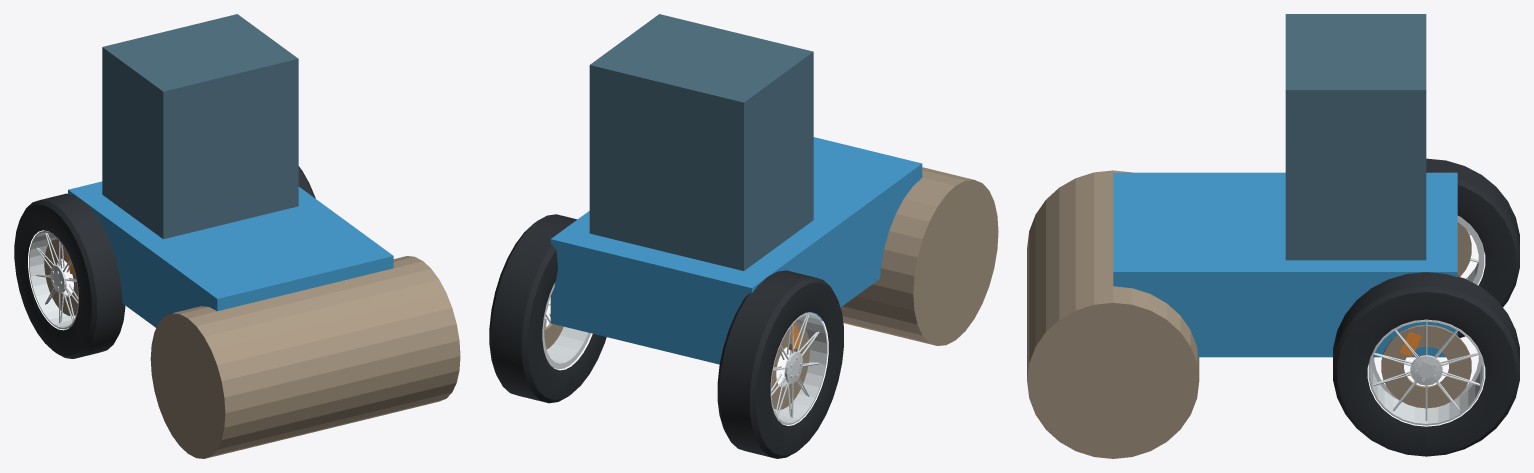
The model's file is stock-car-oval-speedway-track-packer-4a811710__16953.glb.
3 views of the same model, side by side, from view 1: azimuth 30°, elevation 25°; view 2: azimuth 150°, elevation 25°; view 3: azimuth 270°, elevation 25° (orthographic). The views are drawn at different scales.
Parts seen in each view (by area): view 1: track-packer, roller-rear-wheel--1/rubber, roller-rear-wheel--1/alloy, roller-rear-wheel--1/steel; view 2: track-packer, roller-rear-wheel--1/rubber, roller-rear-wheel-1/rubber, roller-rear-wheel--1/alloy, roller-rear-wheel-1/alloy, roller-rear-wheel--1/steel; view 3: track-packer, roller-rear-wheel-1/rubber, roller-rear-wheel--1/rubber, roller-rear-wheel-1/alloy, roller-rear-wheel-1/steel, roller-rear-wheel--1/steel, roller-rear-wheel--1/alloy.
Part boxes in pixels (x1,y1,x2,y2): track-packer: [68, 14, 460, 458]; roller-rear-wheel--1/rubber: [14, 193, 125, 358]; roller-rear-wheel--1/alloy: [29, 230, 78, 329]; roller-rear-wheel--1/steel: [44, 239, 78, 315]; track-packer: [550, 14, 998, 364]; roller-rear-wheel--1/rubber: [717, 270, 843, 458]; roller-rear-wheel-1/rubber: [489, 214, 606, 403]; roller-rear-wheel--1/alloy: [770, 312, 827, 424]; roller-rear-wheel-1/alloy: [542, 283, 590, 369]; roller-rear-wheel--1/steel: [771, 322, 809, 409]; track-packer: [1027, 14, 1457, 458]; roller-rear-wheel-1/rubber: [1333, 272, 1519, 456]; roller-rear-wheel--1/rubber: [1426, 158, 1519, 337]; roller-rear-wheel-1/alloy: [1368, 319, 1484, 425]; roller-rear-wheel-1/steel: [1381, 324, 1471, 408]; roller-rear-wheel--1/steel: [1457, 222, 1471, 276]; roller-rear-wheel--1/alloy: [1457, 216, 1484, 284].
Size of the model in its own units: 2.01 by 2.4 by 3.15.
